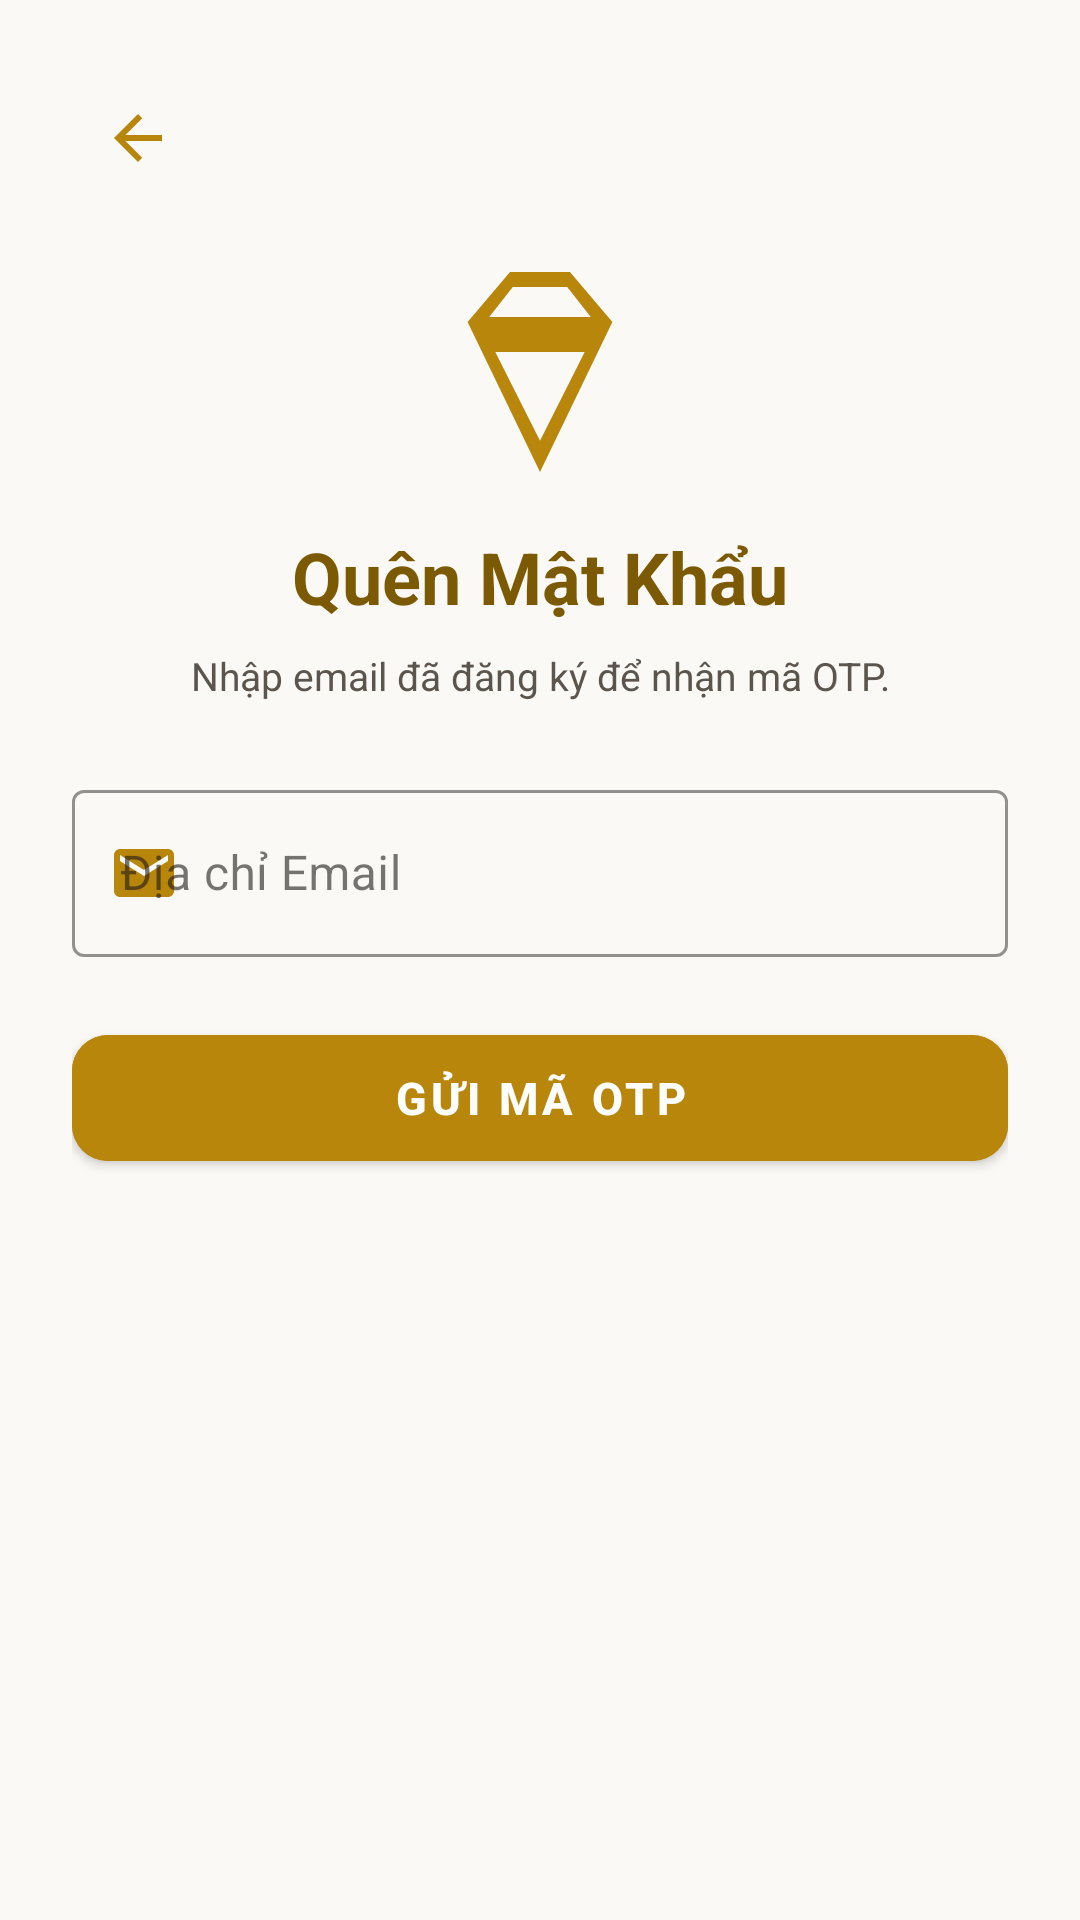

Icons on this 1080w x 1920h Android screen, each with the point to tap as (x=x, y=y):
Quay lại: (x=138, y=138)
